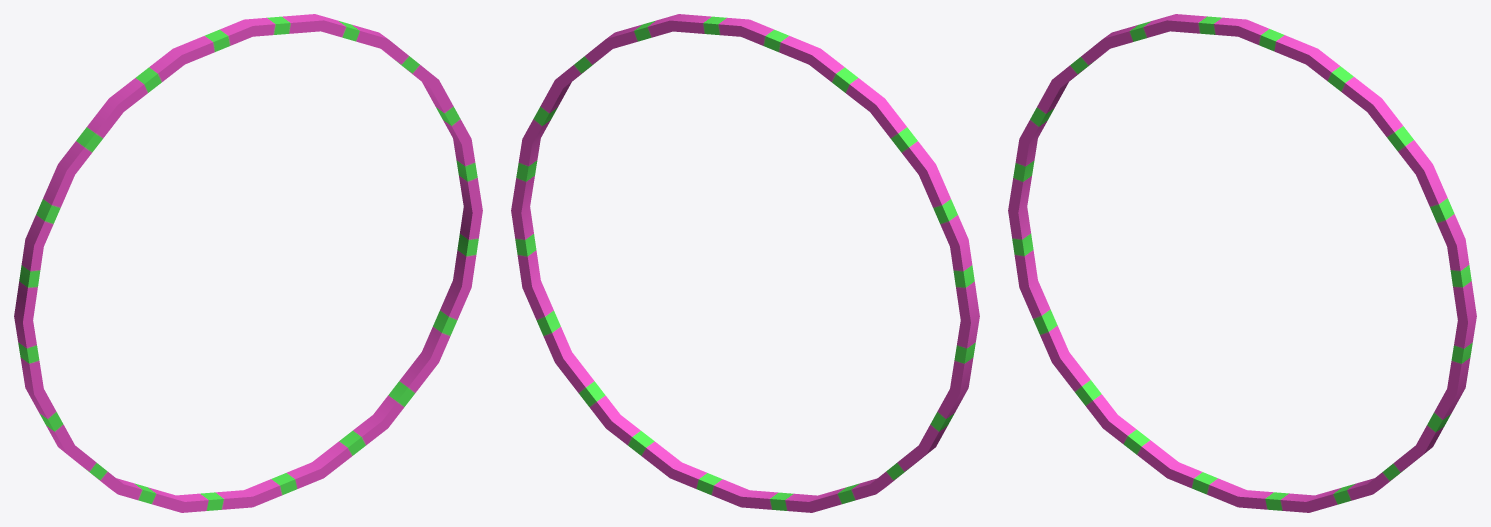
File: MDL_Hoop.fbx
3 views of the same model, side by side, from view 1: azimuth 30°, elevation 25°; view 2: azimuth 150°, elevation 25°; view 3: azimuth 330°, elevation 25° (orthographic).
Parts seen in each view (by area): view 1: HOOP_3; view 2: HOOP_3; view 3: HOOP_3.
Boxes of the visible parts, <box> form: HOOP_3: <box>14,14,482,512</box>; HOOP_3: <box>511,14,979,512</box>; HOOP_3: <box>1008,14,1476,512</box>.
Bounding box in the file's own units: 2.34 × 2.34 × 0.0781.
